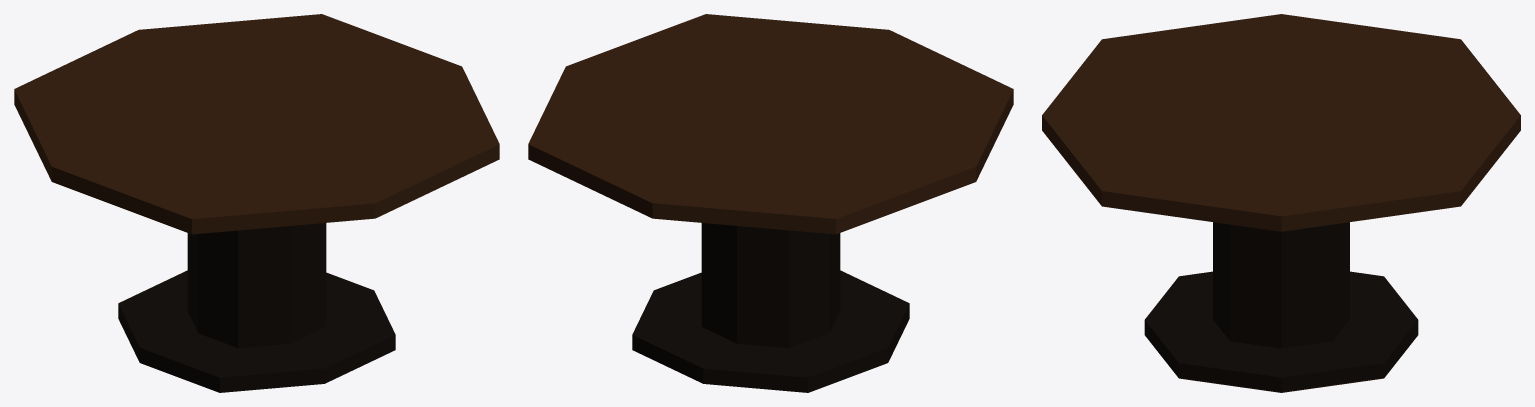
The model's file is table.glb.
The picture shows the model from 3 angles, left to right: view 1: azimuth 30°, elevation 25°; view 2: azimuth 150°, elevation 25°; view 3: azimuth 270°, elevation 25°; orthographic projection.
Parts seen in each view (by area): view 1: Cube; view 2: Cube; view 3: Cube.
Part boxes in pixels (box(x1,y1,x2,y2)): Cube: box(14, 14, 499, 392); Cube: box(528, 14, 1013, 392); Cube: box(1042, 14, 1520, 392).
Bounding box in the file's own units: 3.5 × 1.77 × 3.5.
1 material, 1 textured.
